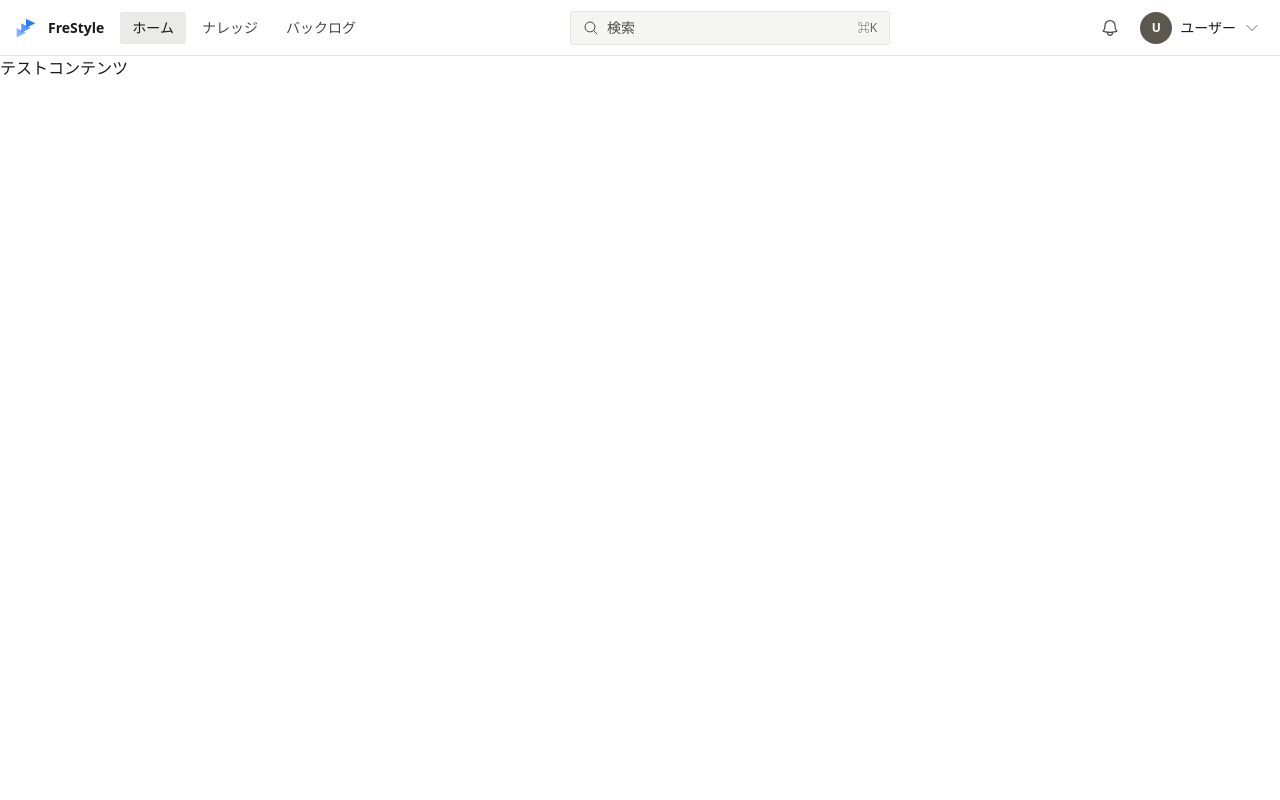
Test: AppShell › ヘッダーの検索ボタンを押してもコマンドパレットが開く
This screenshot has width=1280, height=800.
expect the field with placeholder "コマンドを検索..." is not shown: met
Click the button "検索 ⌘K" at (591, 28), box left=570, top=10, right=890, bottom=44
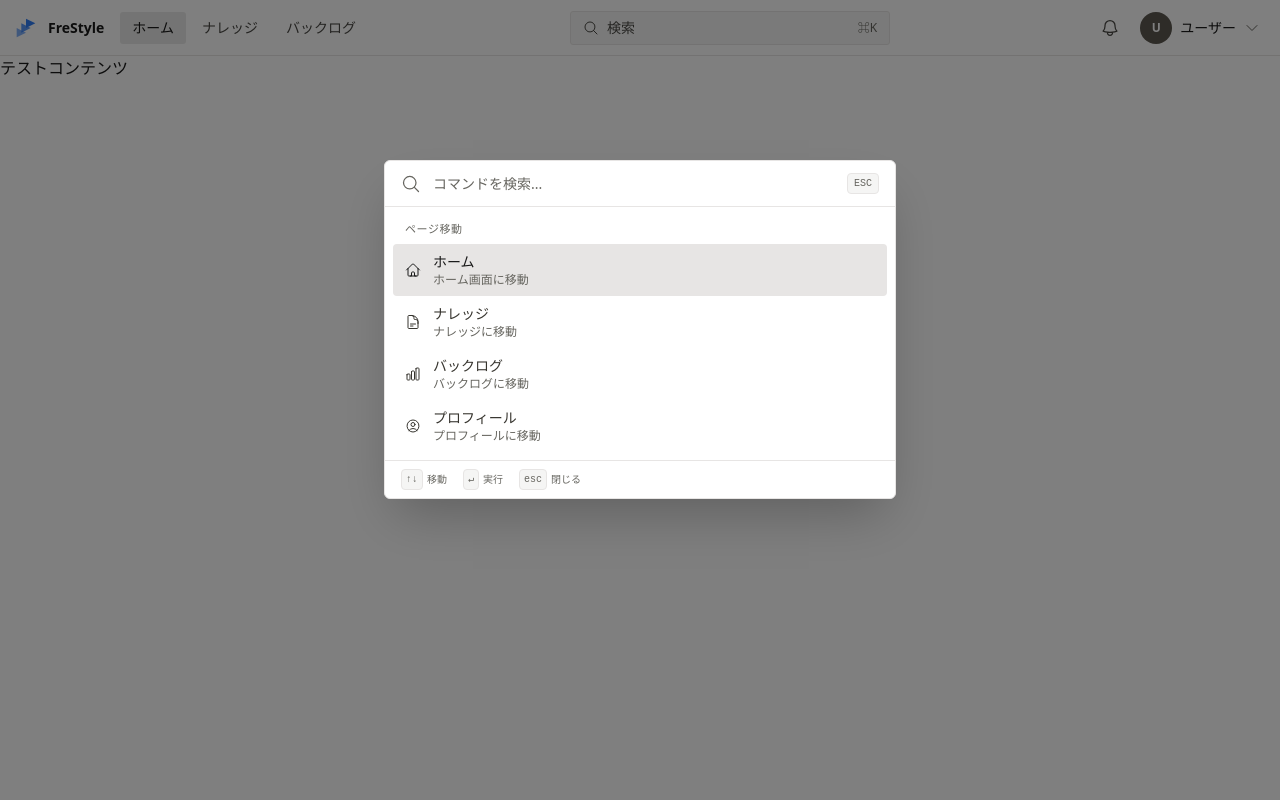
expect the field with placeholder "コマンドを検索..." is shown: met, box left=433, top=174, right=835, bottom=194
